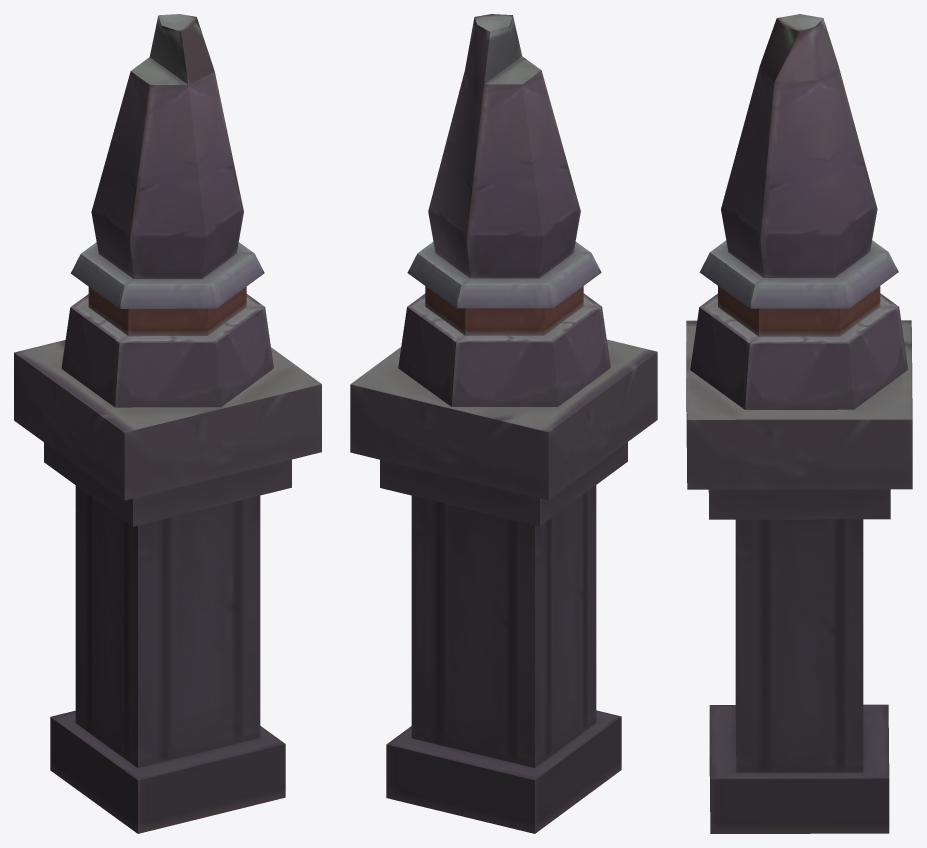
Rendered from dkjy_1_08.fbx.
3 views of the same model, side by side, from view 1: azimuth 30°, elevation 25°; view 2: azimuth 150°, elevation 25°; view 3: azimuth 270°, elevation 25° (orthographic). The views are drawn at different scales.
Visible parts, largest first — view 1: dkjy_1_08; view 2: dkjy_1_08; view 3: dkjy_1_08.
Part boxes in pixels (box(x1,y1,x2,y2)): dkjy_1_08: box(14, 14, 321, 833); dkjy_1_08: box(350, 14, 657, 833); dkjy_1_08: box(686, 14, 912, 833).
Size of the model in its own units: 219 by 800 by 211.
